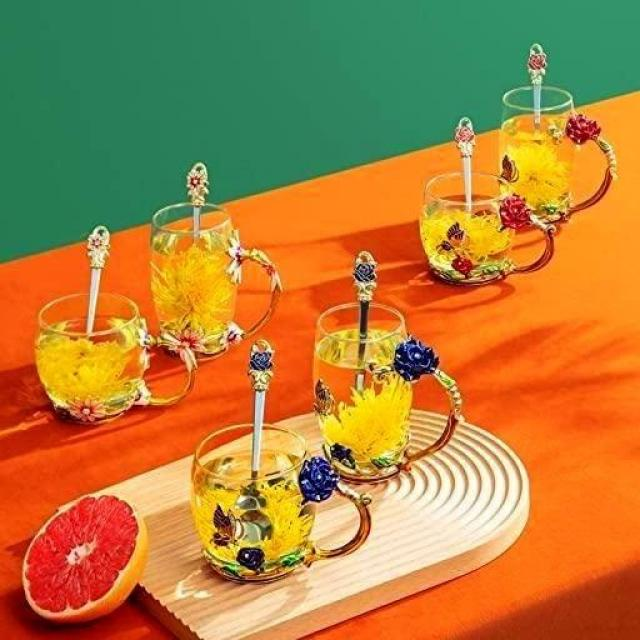glass-mug: (310, 296, 470, 488), (188, 422, 374, 586), (32, 286, 196, 430), (146, 204, 289, 360), (494, 82, 618, 228), (419, 165, 561, 291)
